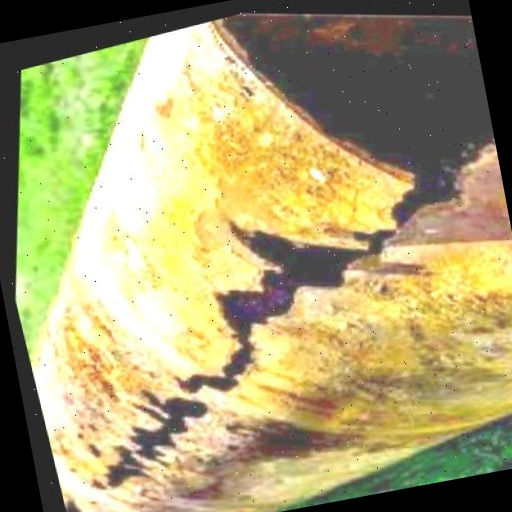corrosion: (7, 243, 440, 512)
crack: (60, 162, 402, 512), (0, 169, 336, 512), (129, 77, 335, 371)
